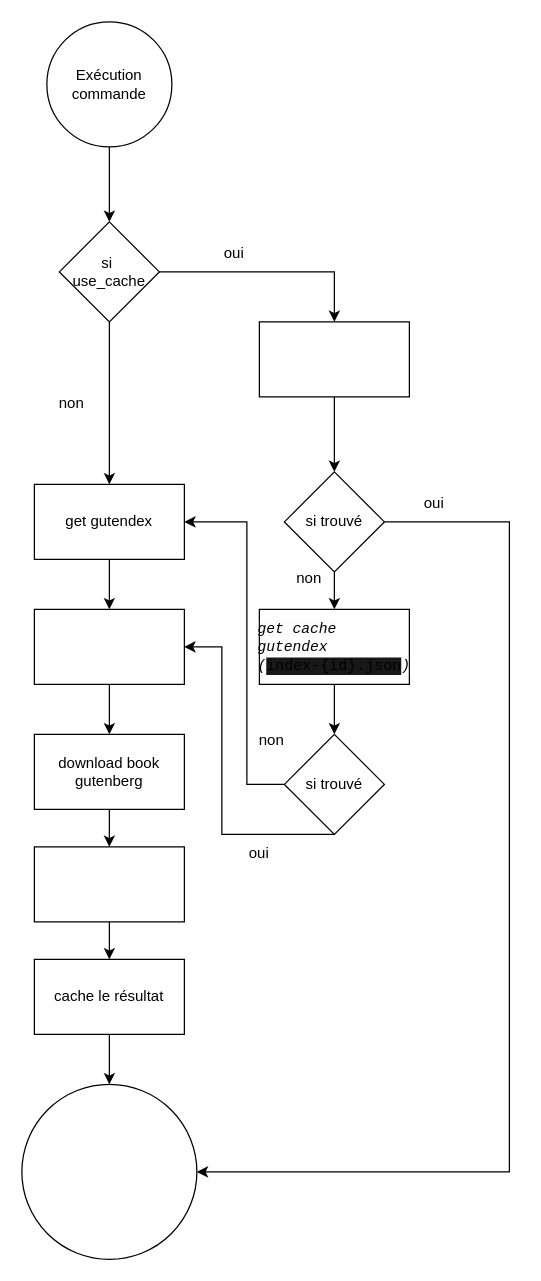
Some shapes in this 541 by 1281 pixel diagram are drawn without their labels. Each missing label, with the centre of its shape:
"extrait le lien de la réponse gutendex" belongs at (x=108, y=646).
"exécution du traitement spécifique en fonction du module demandé" belongs at (x=109, y=1171).
"get cache texte (books/id.txt)" belongs at (x=333, y=359).
"nettoie le texte" belongs at (x=108, y=884).
